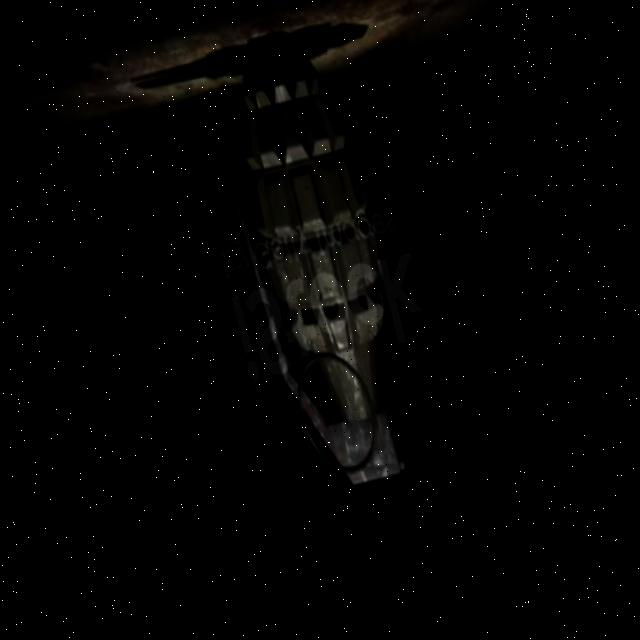grenade: (197, 39, 432, 504)
